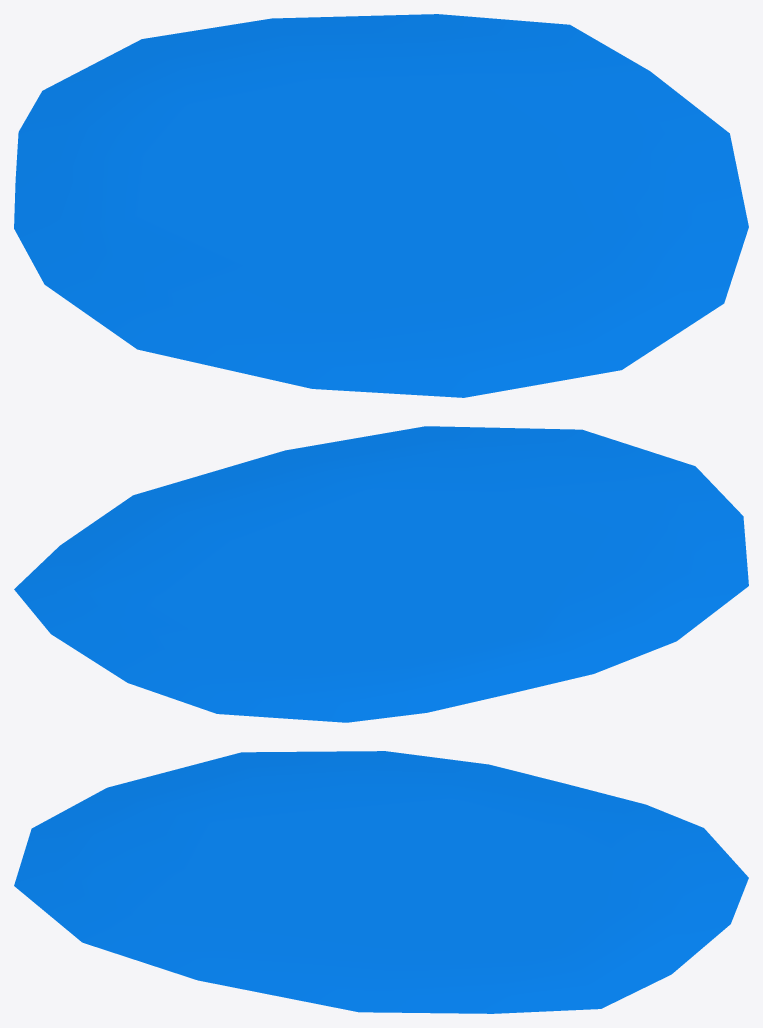
File: Puddle_B.fbx
3 renders of one model, top to bottom at view 1: azimuth 30°, elevation 25°; view 2: azimuth 150°, elevation 25°; view 3: azimuth 270°, elevation 25°, orthographic. The views are drawn at different scales.
Parts seen in each view (by area): view 1: Puddle_B; view 2: Puddle_B; view 3: Puddle_B.
Boxes of the visible parts, x1,y1,x2,y2 form: Puddle_B: (14,14,748,397); Puddle_B: (14,426,748,722); Puddle_B: (14,751,748,1013).
Bounding box in the file's own units: 64.84 × 0.5295 × 76.64.
